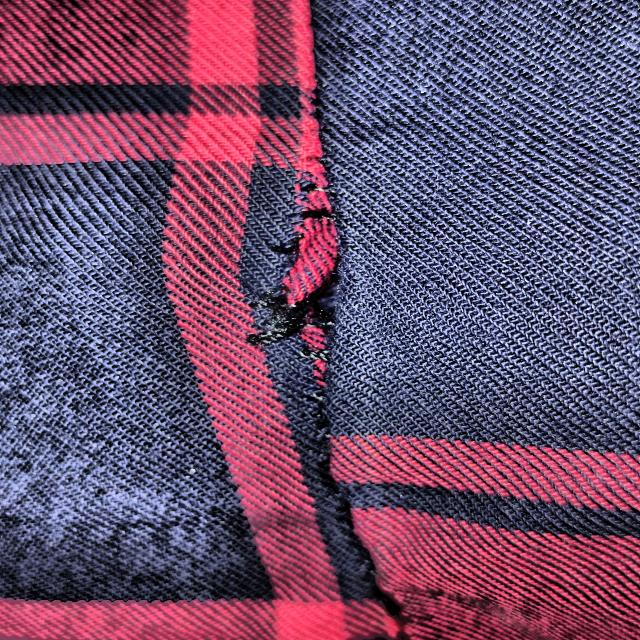seam: (225, 155, 398, 432)
